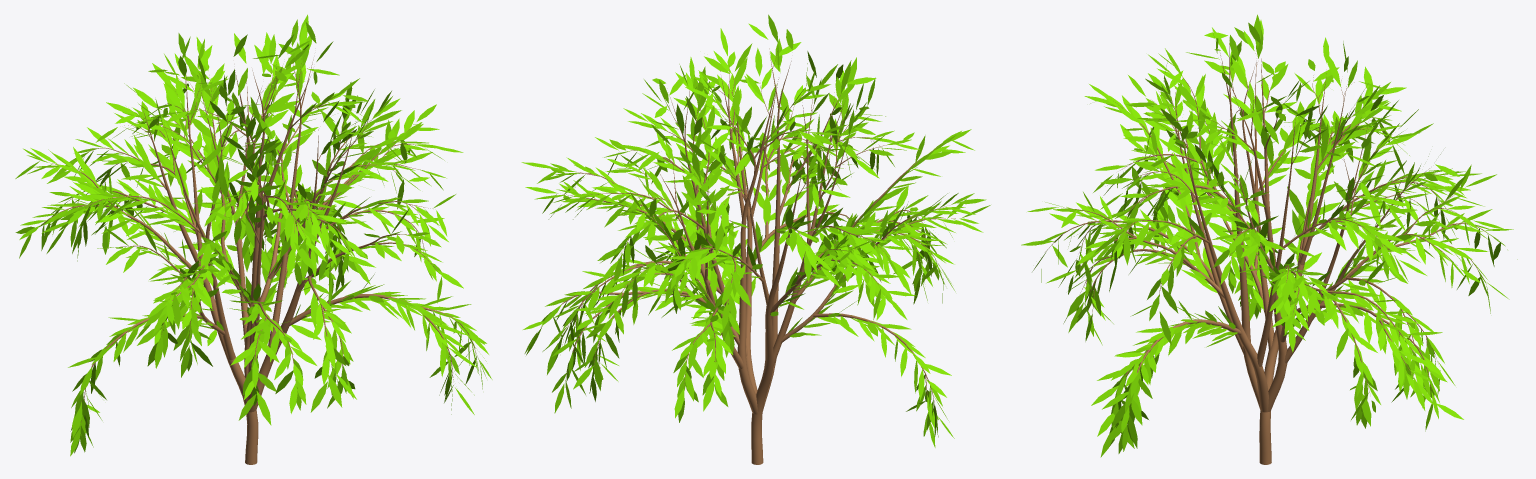
The model's file is TreevoTree.fbx.
3 renders of one model, left to right at view 1: azimuth 30°, elevation 25°; view 2: azimuth 150°, elevation 25°; view 3: azimuth 270°, elevation 25°, orthographic. The views are drawn at different scales.
Parts seen in each view (by area): view 1: treevoLeaves_LOD0, treevo_LOD0; view 2: treevoLeaves_LOD0, treevo_LOD0; view 3: treevoLeaves_LOD0, treevo_LOD0.
Boxes of the visible parts, x1=… form: treevoLeaves_LOD0: x1=15, y1=14, x2=492, y2=456; treevo_LOD0: x1=41, y1=53, x2=477, y2=464; treevoLeaves_LOD0: x1=521, y1=14, x2=990, y2=447; treevo_LOD0: x1=541, y1=48, x2=955, y2=464; treevoLeaves_LOD0: x1=1021, y1=14, x2=1517, y2=457; treevo_LOD0: x1=1045, y1=43, x2=1494, y2=464.
Size of what is drawn, in the model's own units: 522 by 533 by 549.
